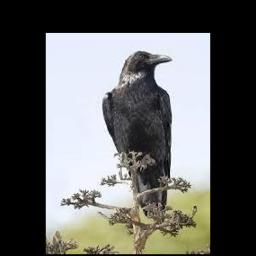Crow: (103, 51, 172, 225)
